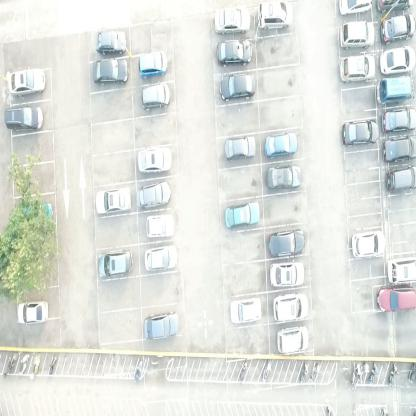car: (380, 13, 416, 48), (7, 66, 46, 98), (98, 246, 134, 279), (267, 227, 305, 258), (95, 185, 132, 216), (376, 76, 414, 106), (341, 118, 379, 148), (4, 104, 43, 132), (136, 180, 171, 211), (257, 0, 293, 30), (219, 72, 255, 102), (273, 292, 309, 322), (143, 310, 179, 340), (144, 242, 178, 273), (340, 54, 375, 84), (269, 259, 304, 289), (379, 46, 415, 75), (214, 5, 250, 34), (216, 38, 252, 67), (224, 200, 260, 229), (136, 146, 172, 175), (376, 285, 416, 311), (229, 295, 262, 326), (382, 134, 416, 164), (350, 229, 386, 257), (338, 22, 374, 50), (93, 58, 129, 85), (277, 324, 309, 354), (381, 107, 416, 133), (266, 163, 301, 189), (224, 135, 256, 163), (264, 131, 297, 158), (138, 50, 168, 79), (16, 299, 48, 326), (19, 202, 54, 226), (386, 165, 416, 192), (94, 29, 126, 54), (142, 83, 170, 111), (145, 213, 175, 239), (387, 256, 416, 282), (337, 0, 373, 18), (374, 0, 412, 15)
